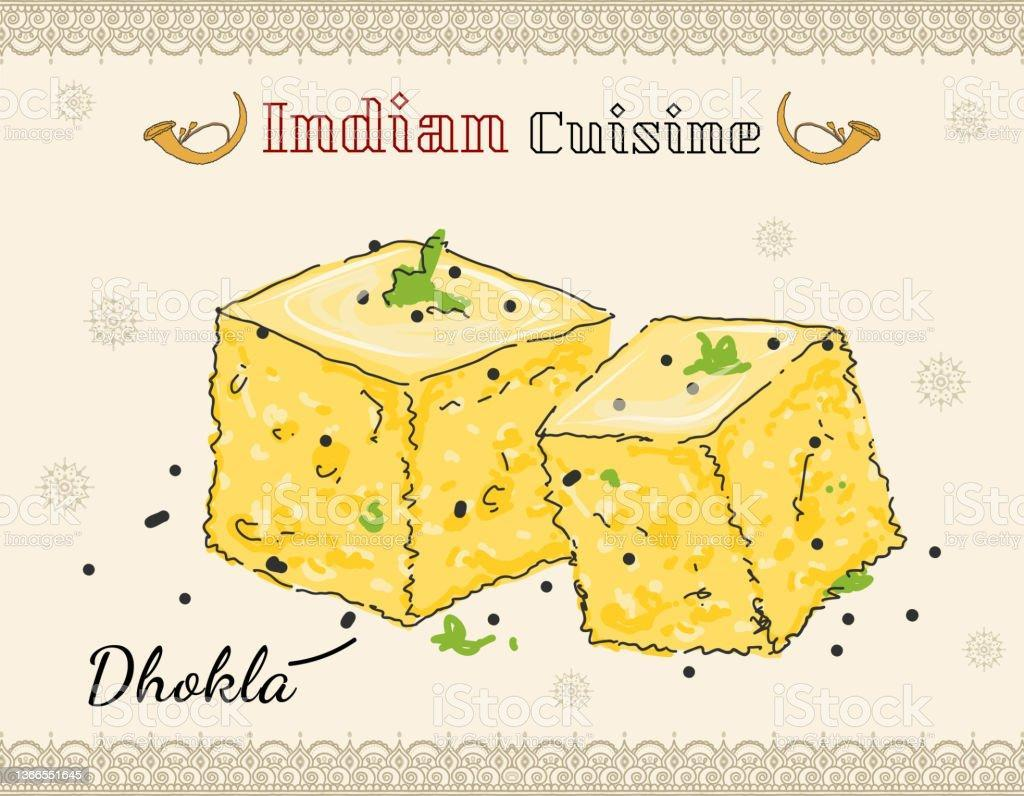dhokla: (214, 233, 904, 684)
